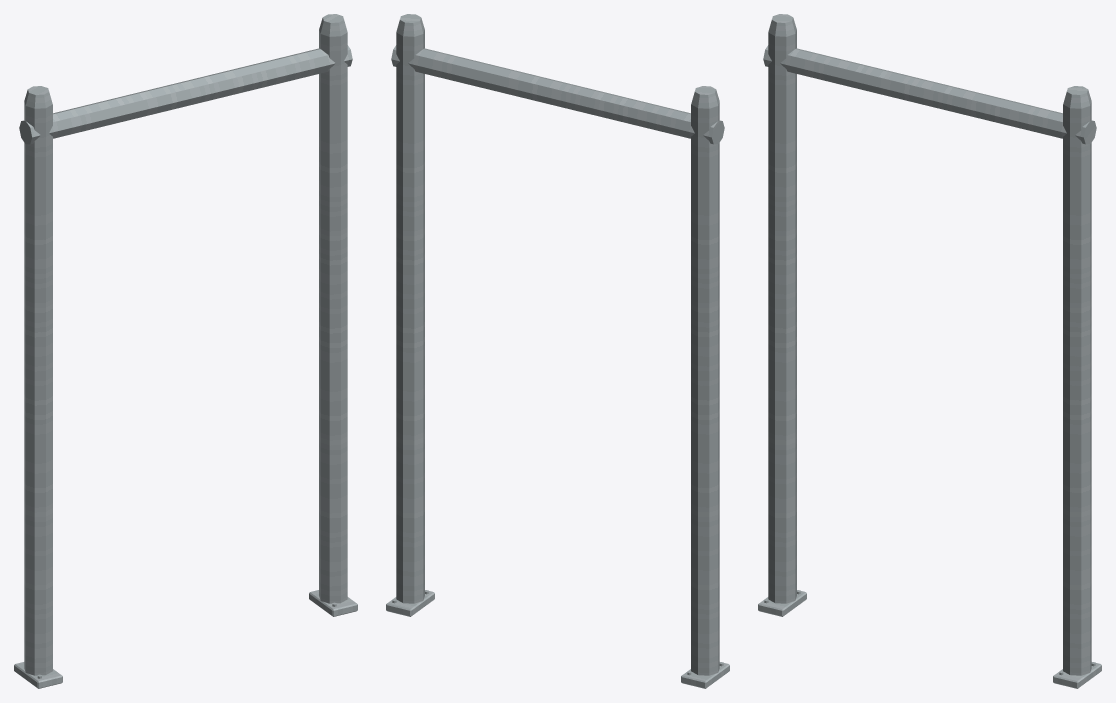
Rendered from pool_guardrail_end.glb.
3 views of the same model, side by side, from view 1: azimuth 30°, elevation 25°; view 2: azimuth 150°, elevation 25°; view 3: azimuth 330°, elevation 25° (orthographic).
Parts seen in each view (by area): view 1: core_pool_guardrail_end; view 2: core_pool_guardrail_end; view 3: core_pool_guardrail_end.
Boxes of the visible parts, x1,y1,x2,y2 form: core_pool_guardrail_end: (14,14,357,688); core_pool_guardrail_end: (386,14,729,688); core_pool_guardrail_end: (758,14,1101,688).
Bounding box in the file's own units: 0.6 × 1.05 × 0.08.
1 material, 1 textured.
